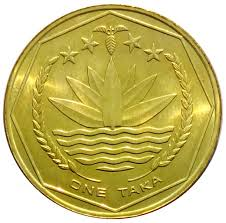1_takar_coin: (3, 4, 221, 218)
